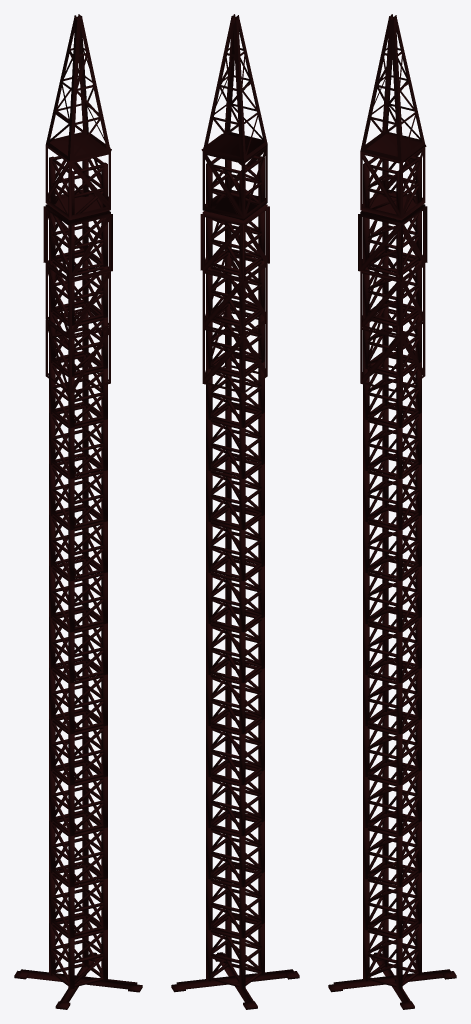
File: torre.obj
The picture shows the model from 3 angles, left to right: view 1: azimuth 30°, elevation 25°; view 2: azimuth 150°, elevation 25°; view 3: azimuth 330°, elevation 25°; orthographic projection.
Parts seen in each view (by area): view 1: crane_Mesh.065; view 2: crane_Mesh.065; view 3: crane_Mesh.065.
Boxes of the visible parts, x1,y1,x2,y2 form: crane_Mesh.065: (14, 14, 142, 1009); crane_Mesh.065: (171, 14, 299, 1009); crane_Mesh.065: (328, 14, 456, 1009).
Bounding box in the file's own units: 1.93 × 20.47 × 1.93.
